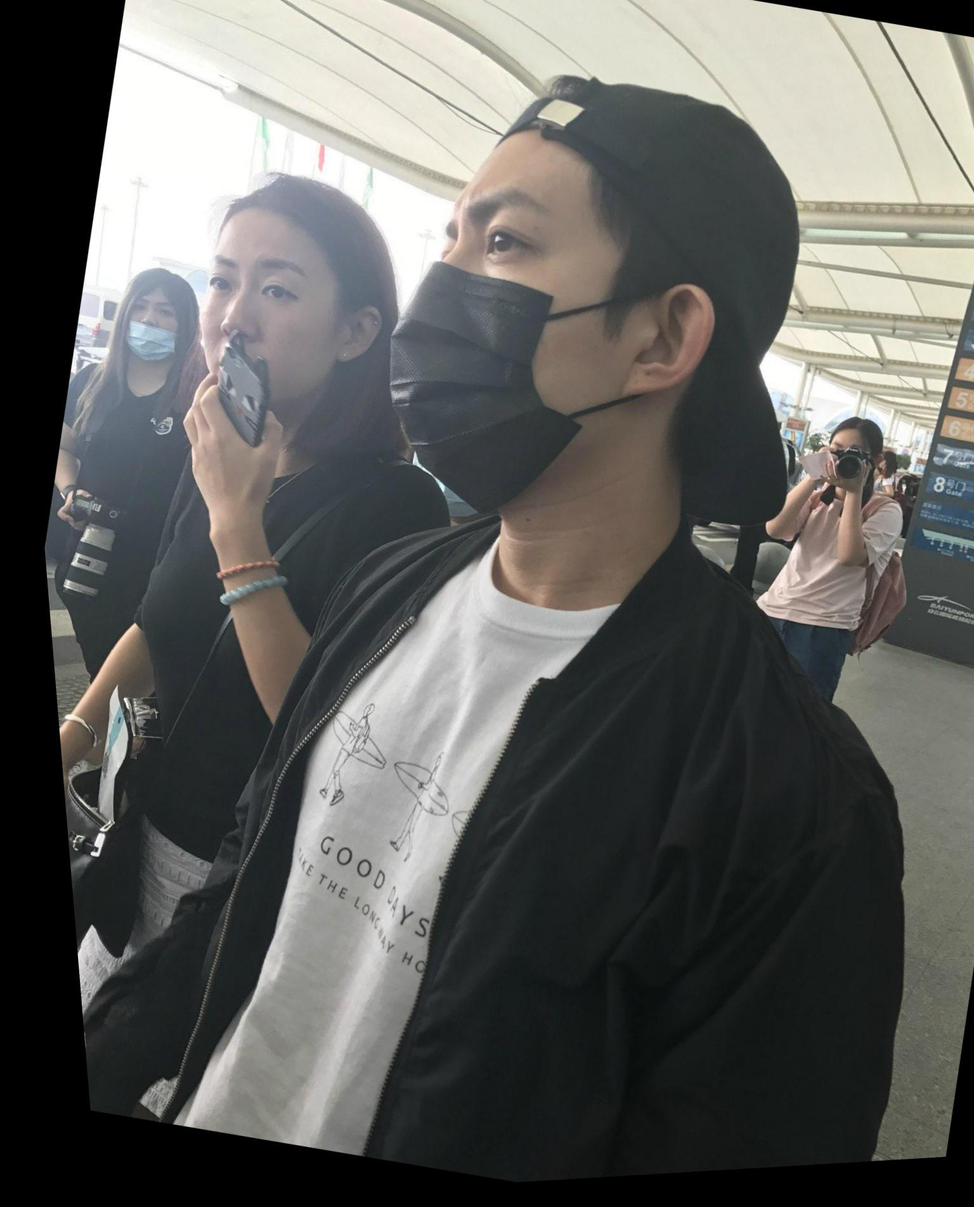NONE: (160, 230, 367, 434), (808, 442, 873, 503)
OK: (349, 153, 729, 527)
WRONG: (103, 288, 192, 376)
